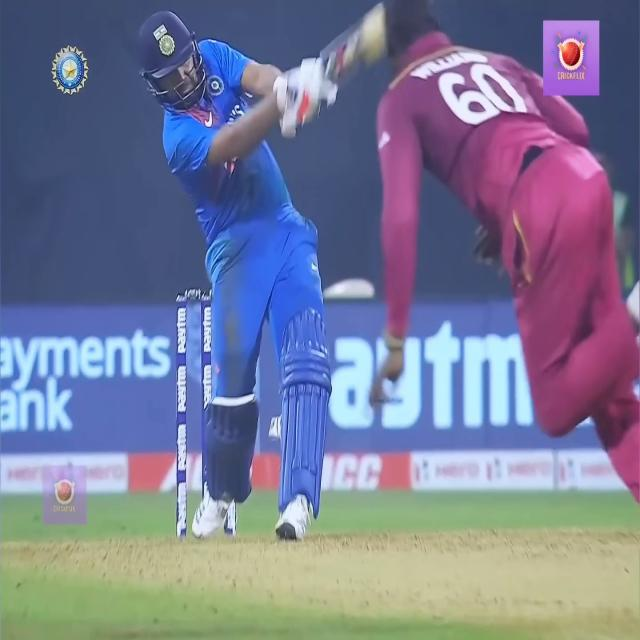partially_visible: (306, 323, 540, 430)
